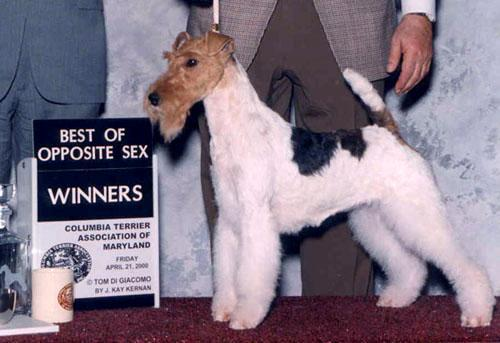wire-haired_fox_terrier: (141, 30, 497, 332)
